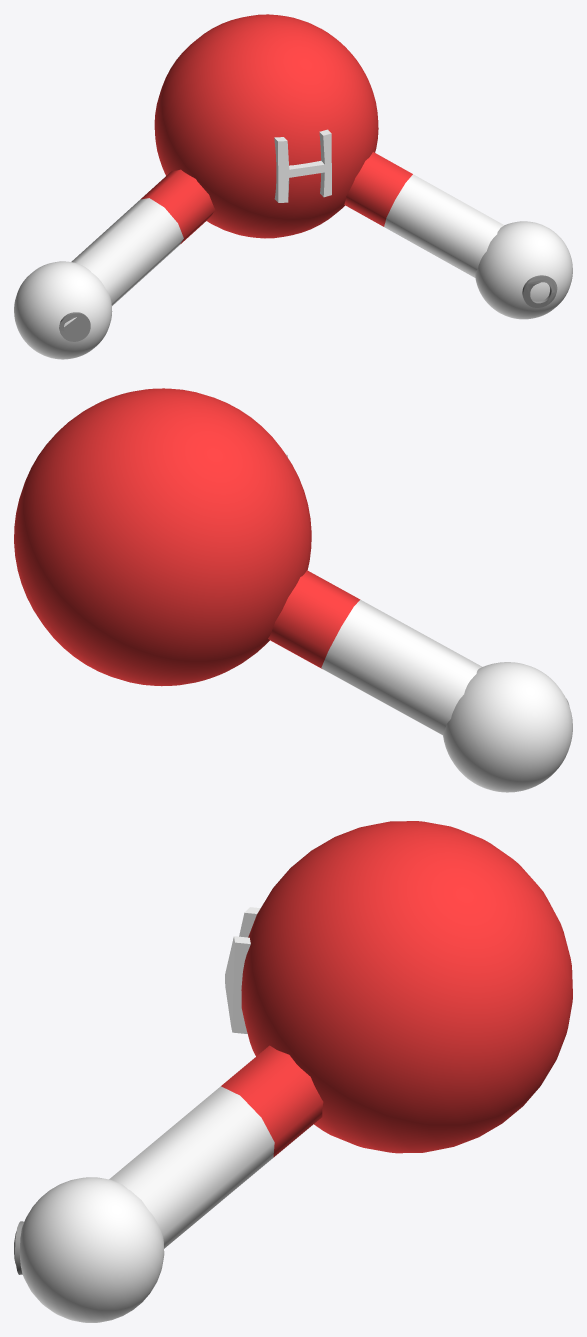
3 renders of one model, top to bottom at view 1: azimuth 30°, elevation 25°; view 2: azimuth 150°, elevation 25°; view 3: azimuth 270°, elevation 25°, orthographic. The views are drawn at different scales.
Visible parts, largest first — view 1: H20; view 2: H20; view 3: H20.
Boxes of the visible parts, x1,y1,x2,y2 form: H20: [14, 14, 572, 359]; H20: [14, 388, 572, 792]; H20: [14, 821, 572, 1322].
Size of the model in its own units: 176 by 90.93 by 122.
